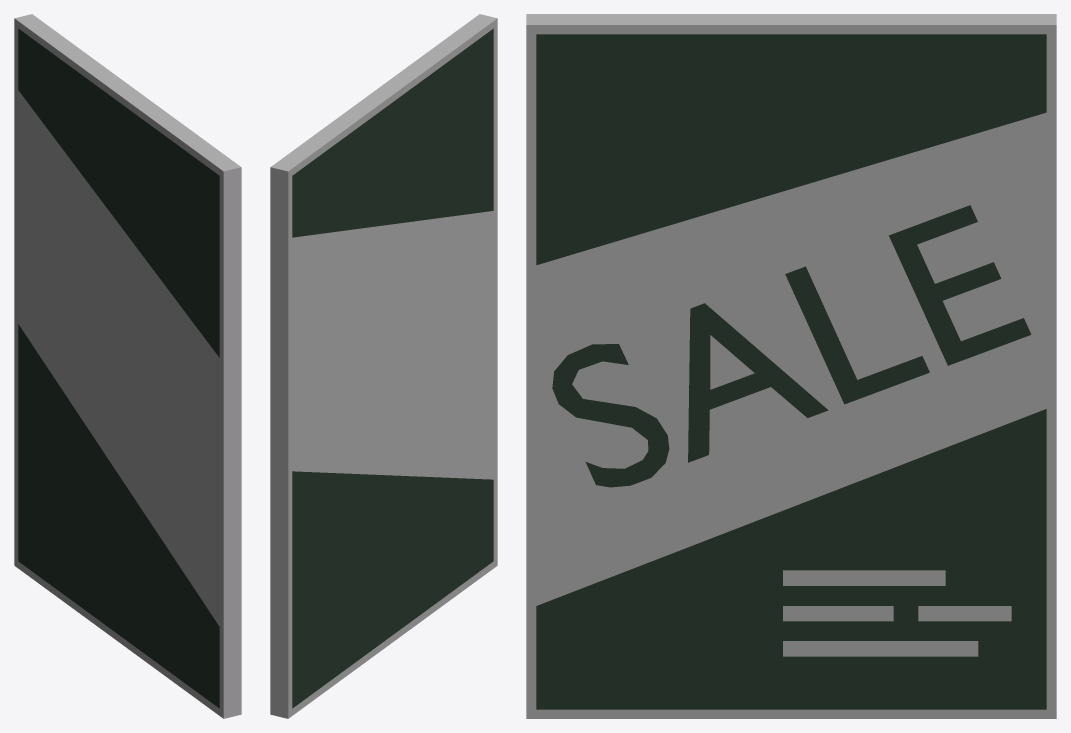
The model's file is SM_shopPoster_01.glb.
The picture shows the model from 3 angles, left to right: view 1: azimuth 30°, elevation 25°; view 2: azimuth 150°, elevation 25°; view 3: azimuth 270°, elevation 25°; orthographic projection. The views are drawn at different scales.
Visible parts, largest first — view 1: SM_shopPoster_01; view 2: SM_shopPoster_01; view 3: SM_shopPoster_01.
Boxes of the visible parts, left/top/right/bottom form: SM_shopPoster_01: left=14, top=14, right=241, bottom=718; SM_shopPoster_01: left=270, top=14, right=497, bottom=718; SM_shopPoster_01: left=526, top=14, right=1056, bottom=718.
Size of the model in its own units: 0.0463 by 0.9591 by 0.6647.
1 material, 1 textured.
